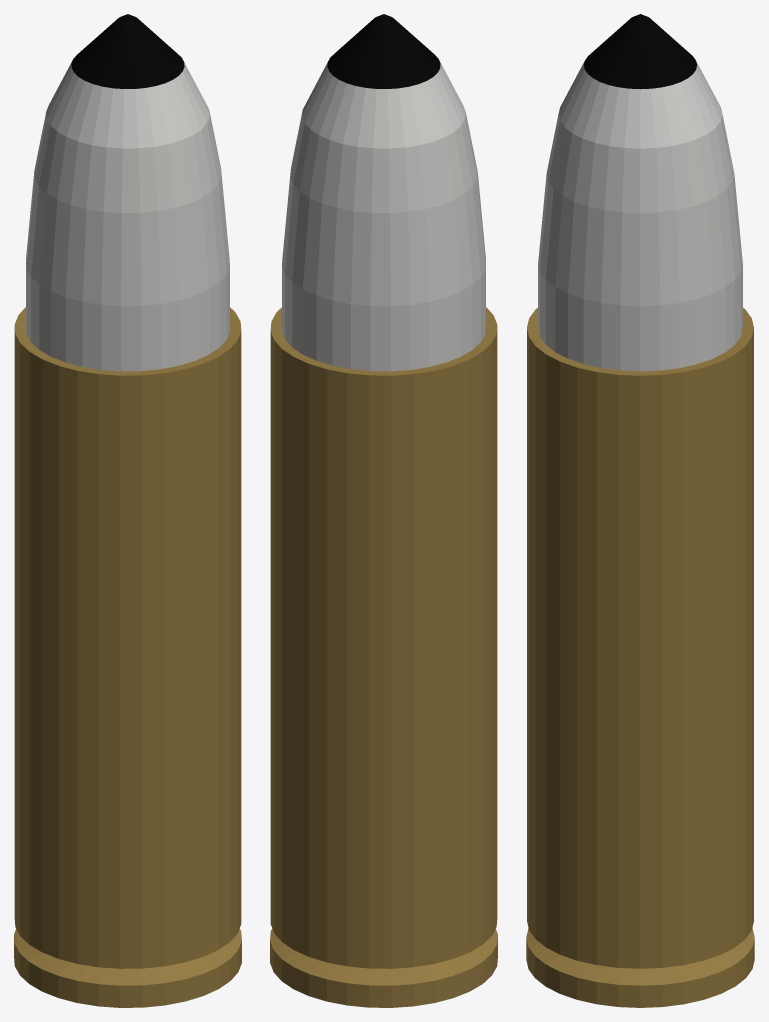
The model's file is bullet.glb.
The picture shows the model from 3 angles, left to right: view 1: azimuth 30°, elevation 25°; view 2: azimuth 150°, elevation 25°; view 3: azimuth 270°, elevation 25°; orthographic projection.
Visible parts, largest first — view 1: bullet; view 2: bullet; view 3: bullet.
Boxes of the visible parts, <box> form: bullet: <box>14,14,241,1007</box>; bullet: <box>270,14,497,1007</box>; bullet: <box>526,14,754,1007</box>.
Size of the model in its own units: 0.1417 by 0.6472 by 0.1417.
